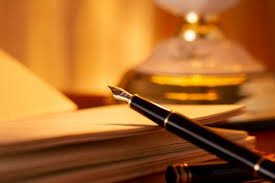pen: (108, 84, 275, 177)
